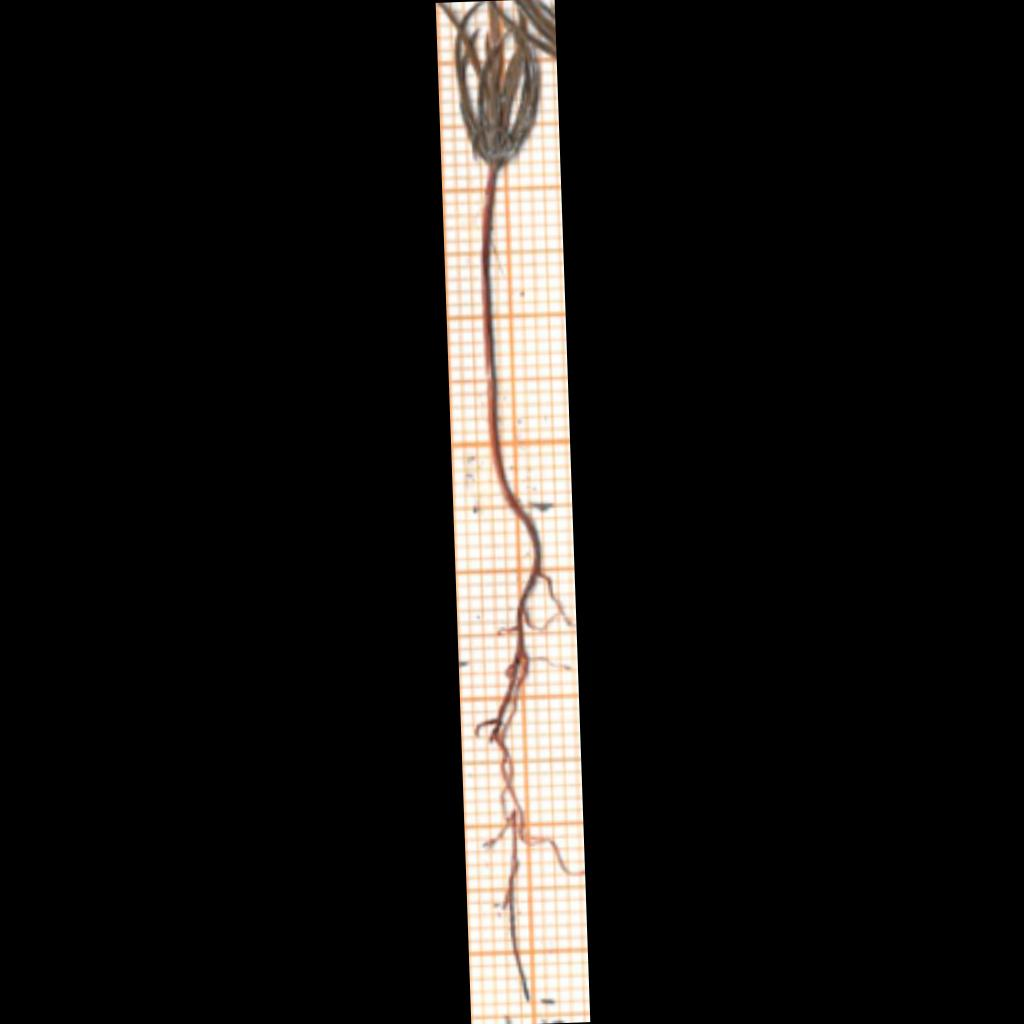flowerPinus: (441, 1, 540, 167)
rootPinus: (490, 532, 564, 999)
stemPinus: (481, 168, 530, 526)
